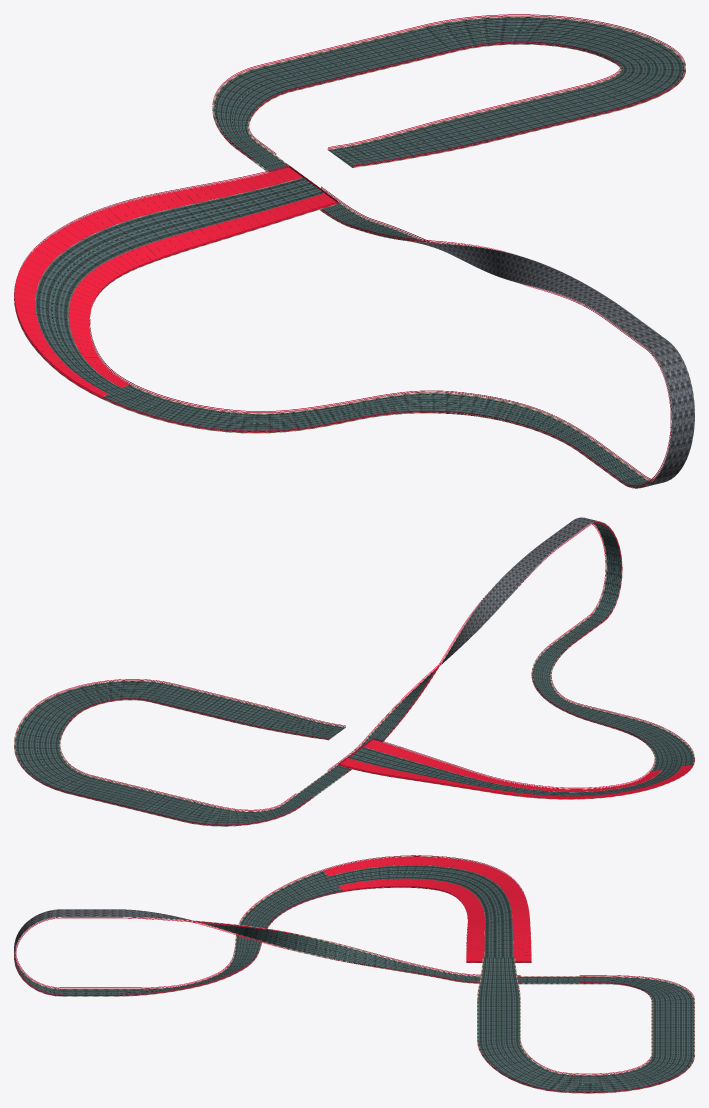
File: Everything.obj
The picture shows the model from 3 angles, top to bottom: view 1: azimuth 30°, elevation 25°; view 2: azimuth 150°, elevation 25°; view 3: azimuth 270°, elevation 25°; orthographic projection. The views are drawn at different scales.
Parts seen in each view (by area): view 1: Track_TwistRoad, HealPads_TwistRoad.003, Transparent_TwistRoad.004; view 2: Track_TwistRoad, Transparent_TwistRoad.004, HealPads_TwistRoad.003; view 3: Track_TwistRoad, Transparent_TwistRoad.004, HealPads_TwistRoad.003.
Part boxes in pixels (left/top/right/bottom): Track_TwistRoad: left=14, top=16, right=694, bottom=488; HealPads_TwistRoad.003: left=14, top=167, right=336, bottom=397; Transparent_TwistRoad.004: left=14, top=14, right=685, bottom=487; Track_TwistRoad: left=14, top=517, right=694, bottom=826; Transparent_TwistRoad.004: left=14, top=522, right=694, bottom=825; HealPads_TwistRoad.003: left=339, top=740, right=692, bottom=799; Track_TwistRoad: left=14, top=856, right=694, bottom=1093; Transparent_TwistRoad.004: left=14, top=855, right=694, bottom=1092; HealPads_TwistRoad.003: left=323, top=856, right=531, bottom=961.
Size of the model in its own units: 2149 by 364 by 2501.
8 materials, 8 textured.
